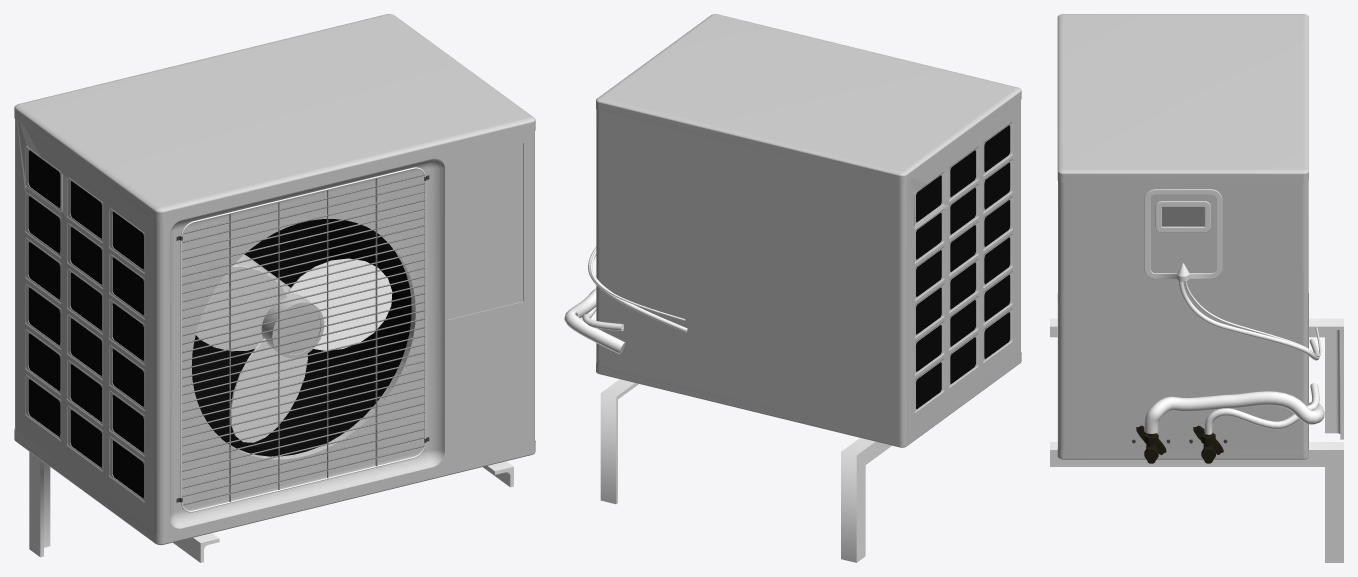
The model's file is 8_outdoor_kondei.FBX.
3 renders of one model, left to right at view 1: azimuth 30°, elevation 25°; view 2: azimuth 150°, elevation 25°; view 3: azimuth 270°, elevation 25°, orthographic. The views are drawn at different scales.
Visible parts, largest first — view 1: Rectangle0, ChamferBox, Plane01, Plane06, OilTank01, ChamferBo0, Cylinder009, Cylinder011, Cylinder010, Cylinder02, Line10, Rectangle5; view 2: Rectangle0, ChamferBox, Plane01, ChamferBo0, Line10, Line09, Line01, Line03; view 3: Rectangle0, ChamferBox, Line09, Line01, Line10, ChamferBo0, Rectangle3, Line02, Line03, Rectangle4, Box001, Line04.
Boxes of the visible parts, x1,y1,x2,y2 form: Rectangle0: (15, 119, 534, 534); ChamferBox: (14, 14, 535, 222); Plane01: (28, 150, 143, 497); Plane06: (181, 174, 425, 505); OilTank01: (191, 219, 411, 456); ChamferBo0: (14, 428, 535, 545); Cylinder009: (288, 258, 392, 350); Cylinder011: (231, 338, 307, 442); Cylinder010: (196, 265, 287, 351); Cylinder02: (233, 254, 324, 358); Line10: (29, 452, 219, 562); Rectangle5: (180, 167, 426, 512); Rectangle0: (596, 100, 1020, 438); ChamferBox: (596, 14, 1021, 184); Plane01: (916, 125, 1009, 408); ChamferBo0: (596, 352, 1021, 447); Line10: (841, 438, 891, 562); Line09: (600, 379, 638, 504); Line01: (564, 288, 625, 354); Line03: (588, 246, 688, 332); Rectangle0: (1058, 181, 1308, 450); ChamferBox: (1057, 14, 1308, 182); Line09: (1050, 442, 1343, 562); Line01: (1144, 391, 1324, 433); Line10: (1050, 318, 1343, 439); ChamferBo0: (1057, 293, 1308, 459); Rectangle3: (1144, 189, 1222, 281); Line02: (1204, 383, 1319, 434); Line03: (1178, 280, 1319, 360); Rectangle4: (1155, 201, 1210, 232); Box001: (1162, 207, 1204, 226); Line04: (1184, 281, 1321, 356).
Size of the model in its own units: 663 by 709 by 469.
Materials: 10 (1 with a texture image).
